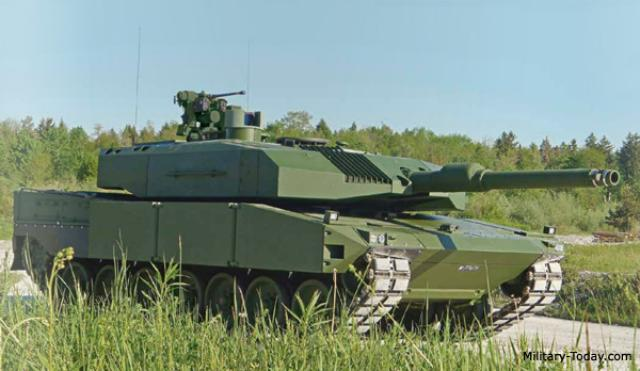tank: (12, 133, 562, 336)
